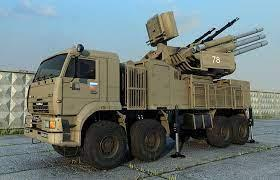truck: (25, 5, 276, 171)
